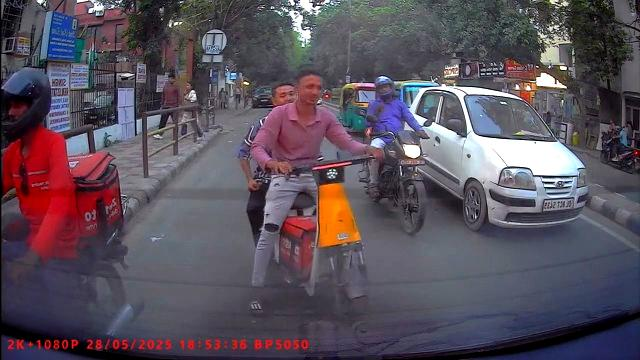motorcycle_with_helmet: (358, 71, 433, 234)
motorcycle_without_helmet: (235, 73, 374, 326)
